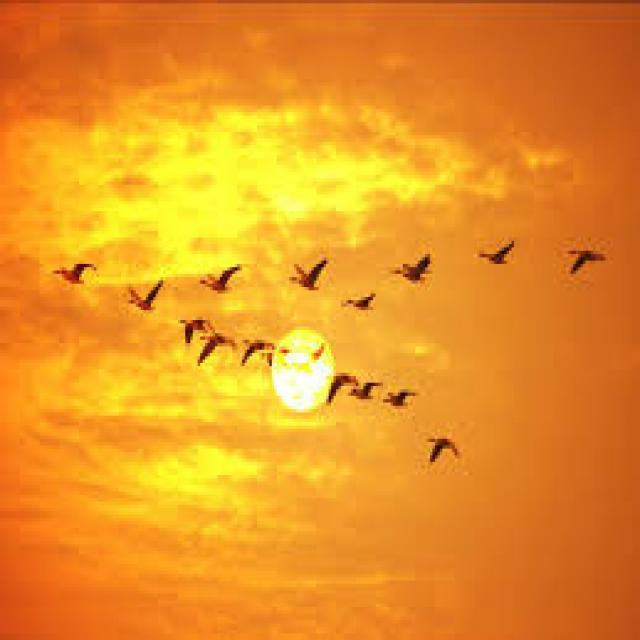bird: (192, 242, 264, 306), (279, 221, 339, 297), (461, 226, 525, 292), (561, 234, 618, 287), (116, 260, 168, 316), (185, 330, 245, 376), (382, 374, 438, 420), (308, 367, 364, 412), (388, 239, 432, 292), (418, 427, 470, 470), (44, 246, 92, 292), (243, 326, 288, 369), (342, 284, 384, 326), (163, 305, 205, 345), (346, 379, 380, 419)
